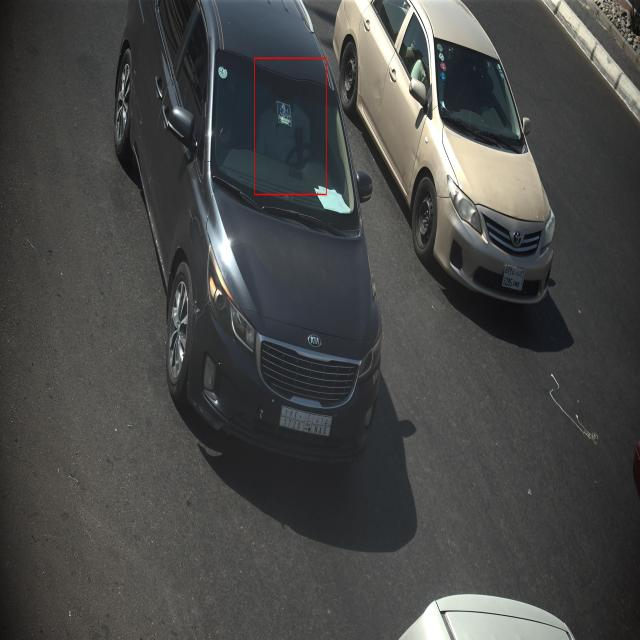windshield: (209, 47, 359, 243), (427, 34, 531, 144)
